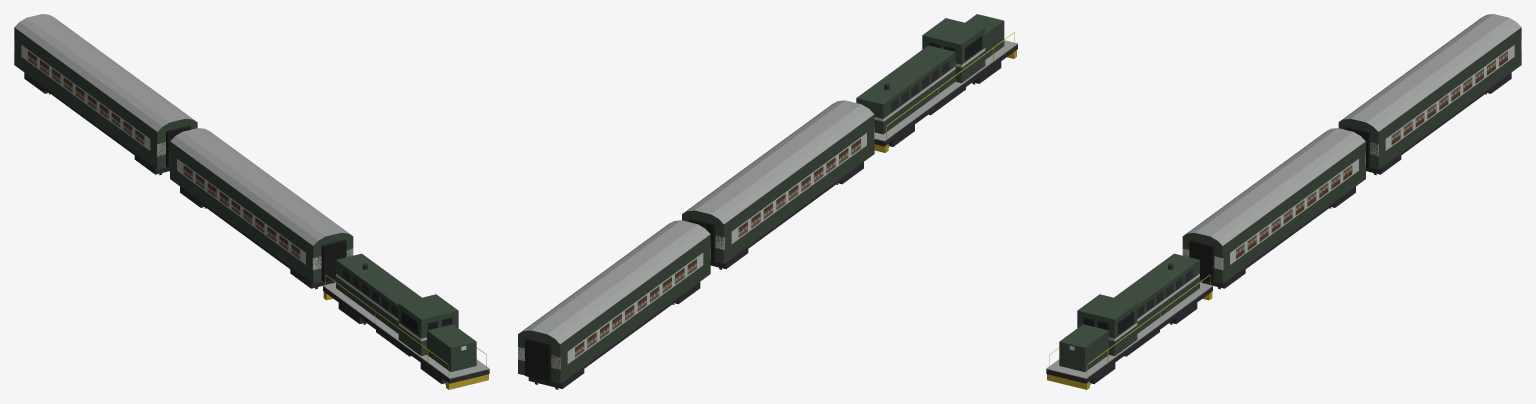
File: town_train 2.gltf
3 renders of one model, left to right at view 1: azimuth 30°, elevation 25°; view 2: azimuth 150°, elevation 25°; view 3: azimuth 330°, elevation 25°, orthographic. The views are drawn at different scales.
Visible parts, largest first — view 1: TownTrain_Roof, TownTrain_Body, TownTrain_LongHood, TownTrain_Band, TownTrain_Cab, TownTrain_Windows, TownTrain_ShortHood, TownTrain_Walkway, TownTrain_Trucks, TownTrain_Vestibule, TownTrain_Doors, TownTrain_Frame (+2 smaller); view 2: TownTrain_Roof, TownTrain_Body, TownTrain_LongHood, TownTrain_Band, TownTrain_Cab, TownTrain_Windows, TownTrain_Vestibule, TownTrain_Trucks, TownTrain_Walkway, TownTrain_Doors, TownTrain_ShortHood, TownTrain_Frame (+3 smaller); view 3: TownTrain_Roof, TownTrain_Body, TownTrain_LongHood, TownTrain_Band, TownTrain_Cab, TownTrain_Windows, TownTrain_ShortHood, TownTrain_Walkway, TownTrain_Trucks, TownTrain_Vestibule, TownTrain_Doors, TownTrain_Frame (+2 smaller).
Boxes of the visible parts, bbox=[...] form: TownTrain_Roof: bbox=[14, 14, 352, 245]; TownTrain_Body: bbox=[14, 27, 353, 283]; TownTrain_LongHood: bbox=[336, 253, 421, 333]; TownTrain_Band: bbox=[14, 40, 353, 270]; TownTrain_Cab: bbox=[398, 294, 458, 355]; TownTrain_Windows: bbox=[28, 51, 299, 258]; TownTrain_ShortHood: bbox=[427, 324, 476, 371]; TownTrain_Walkway: bbox=[323, 282, 489, 378]; TownTrain_Trucks: bbox=[24, 72, 445, 383]; TownTrain_Vestibule: bbox=[166, 125, 346, 281]; TownTrain_Doors: bbox=[14, 33, 312, 281]; TownTrain_Frame: bbox=[323, 286, 489, 383]; TownTrain_Roof: bbox=[519, 100, 874, 343]; TownTrain_Body: bbox=[518, 114, 874, 383]; TownTrain_LongHood: bbox=[856, 45, 955, 134]; TownTrain_Band: bbox=[518, 127, 874, 369]; TownTrain_Cab: bbox=[922, 18, 985, 82]; TownTrain_Windows: bbox=[575, 139, 860, 357]; TownTrain_Vestibule: bbox=[525, 218, 715, 381]; TownTrain_Trucks: bbox=[528, 61, 1001, 388]; TownTrain_Walkway: bbox=[874, 40, 1017, 141]; TownTrain_Doors: bbox=[560, 120, 874, 381]; TownTrain_ShortHood: bbox=[965, 14, 1004, 59]; TownTrain_Frame: bbox=[874, 44, 1017, 146]; TownTrain_Roof: bbox=[1183, 14, 1521, 245]; TownTrain_Body: bbox=[1182, 27, 1521, 283]; TownTrain_LongHood: bbox=[1114, 253, 1199, 333]; TownTrain_Band: bbox=[1182, 40, 1521, 270]; TownTrain_Cab: bbox=[1077, 294, 1137, 355]; TownTrain_Windows: bbox=[1236, 51, 1507, 258]; TownTrain_ShortHood: bbox=[1059, 324, 1108, 371]; TownTrain_Walkway: bbox=[1046, 282, 1212, 378]; TownTrain_Trucks: bbox=[1090, 72, 1511, 383]; TownTrain_Vestibule: bbox=[1189, 125, 1369, 281]; TownTrain_Doors: bbox=[1223, 33, 1521, 281]; TownTrain_Frame: bbox=[1046, 286, 1212, 383].
Size of what is drawn, in the model's own units: 3.12 by 4.38 by 58.65.
Materials: 1 (1 with a texture image).
